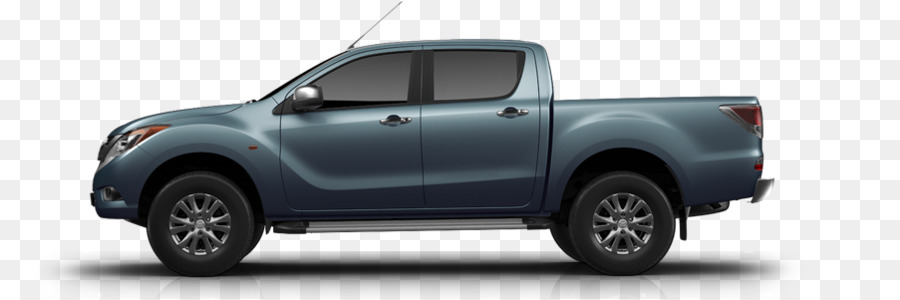pickup: (86, 33, 778, 276)
